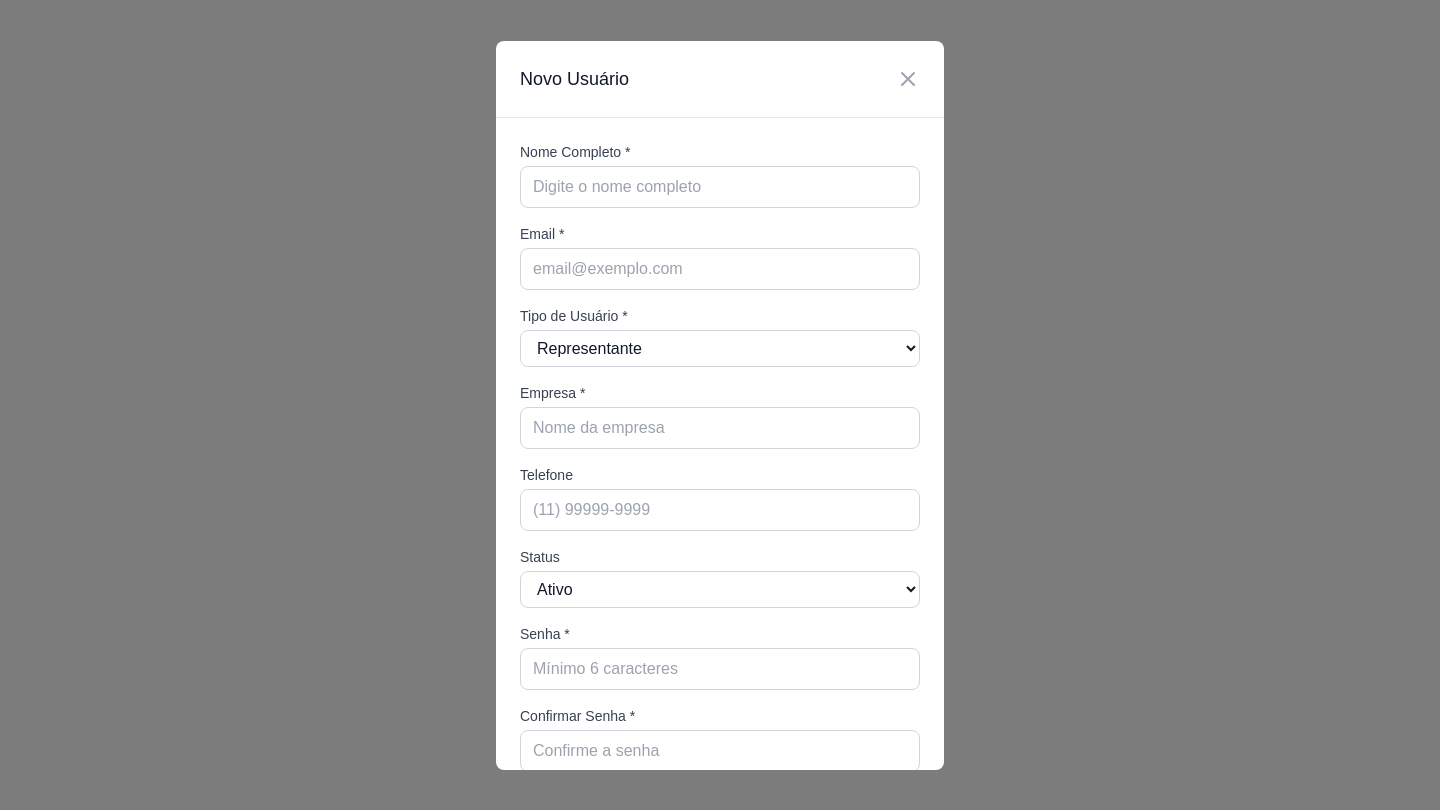
it: ModalUsuario › valida confirmação de senha
This screenshot has width=1440, height=810.
In the password field with placeholder "Mínimo 6 caracteres": coordinates (720, 668) [520, 648, 920, 690], type "123456"
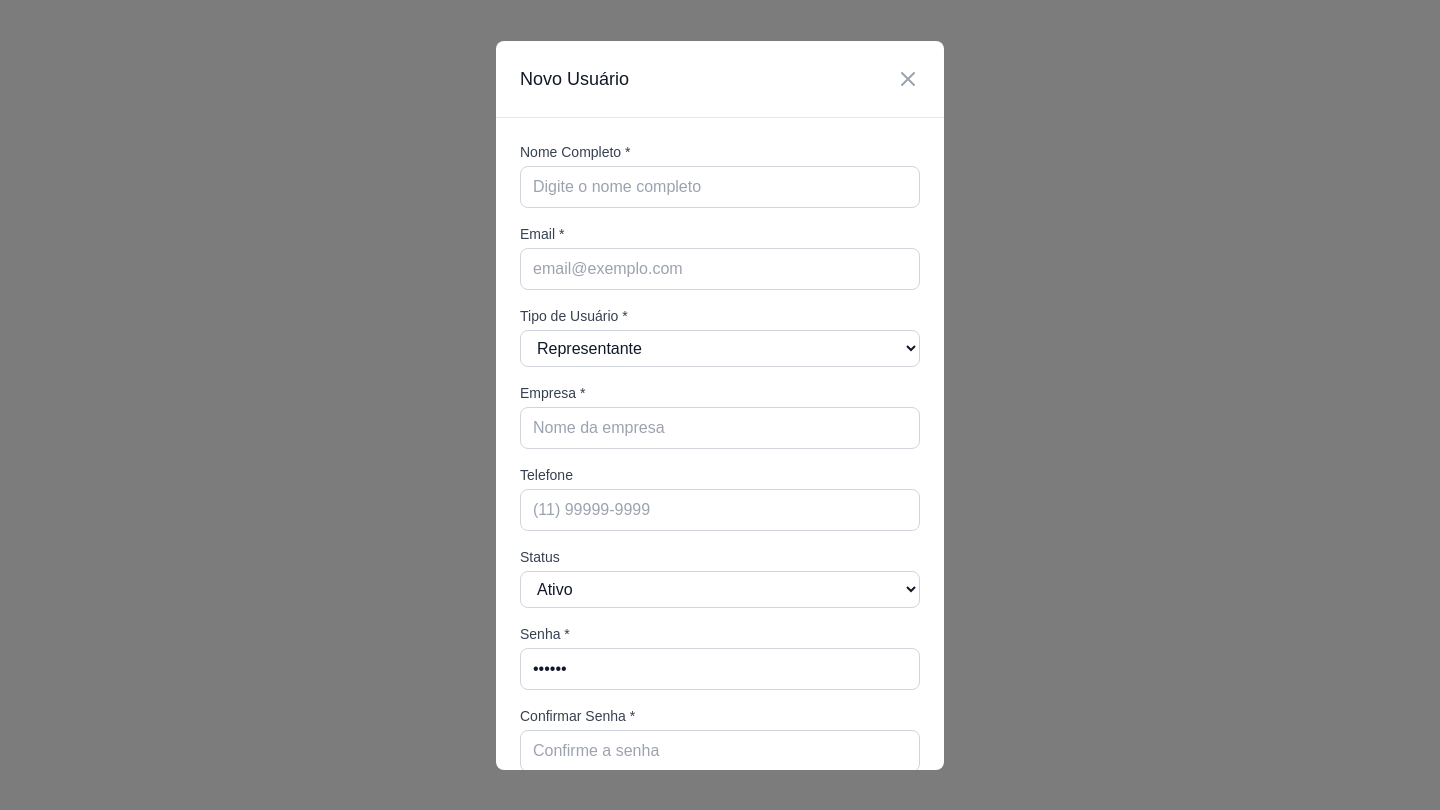
In the password field with placeholder "Confirme a senha": coordinates (720, 750) [520, 730, 920, 772], type "654321"
(page scrolled)
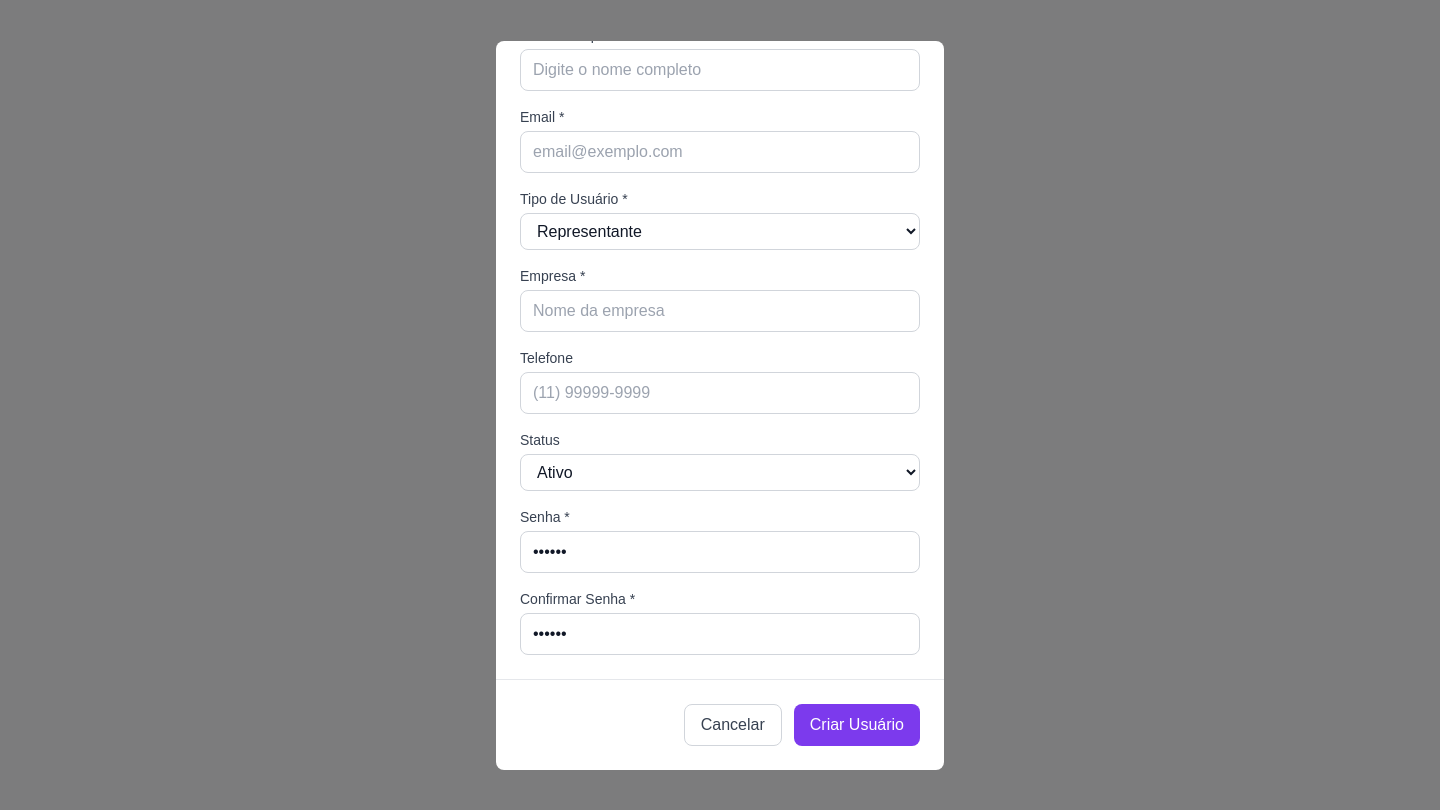
Click the button "Criar Usuário": coordinates (857, 724) [794, 704, 920, 746]
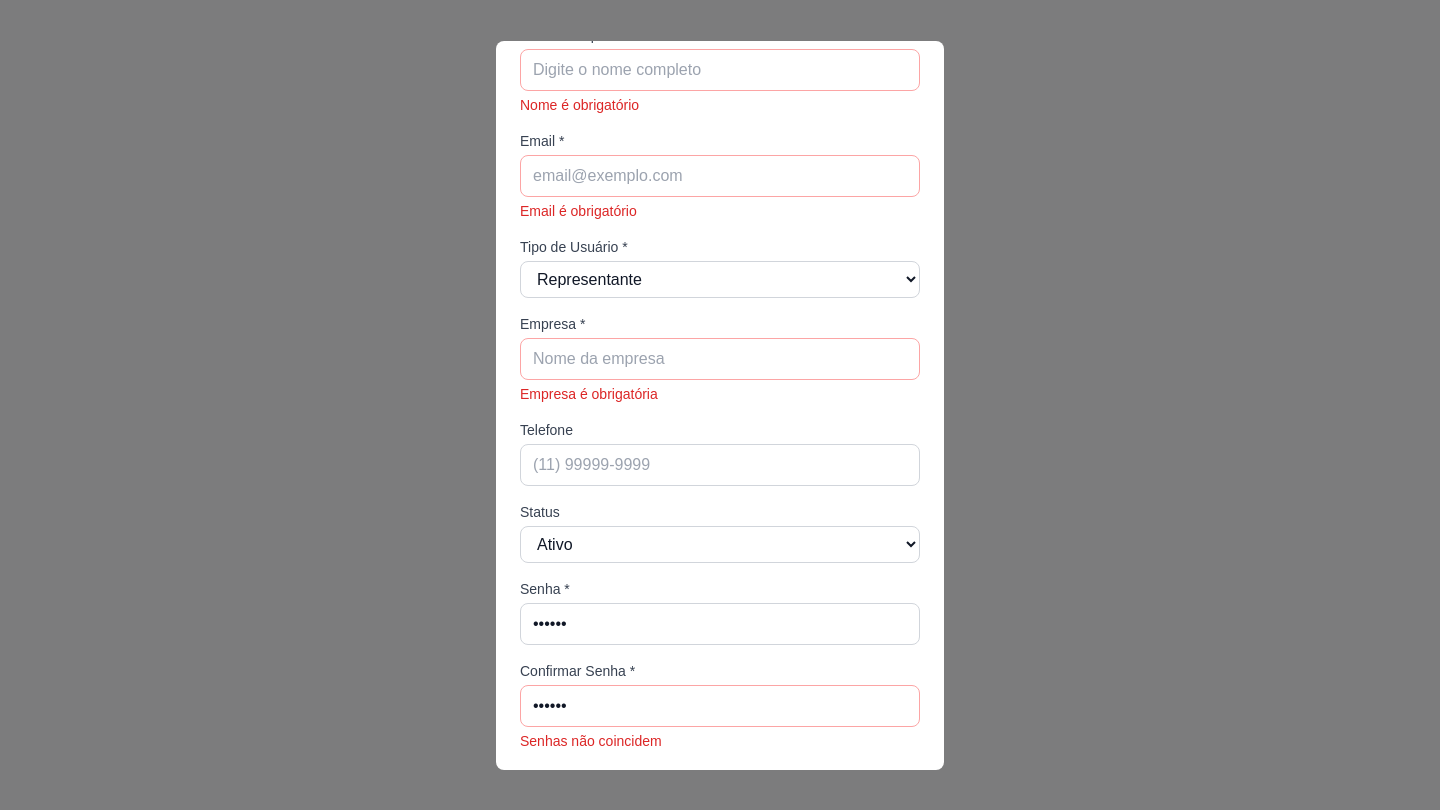
expect the text "Senhas não coincidem" is shown: met, box [520, 732, 662, 748]
